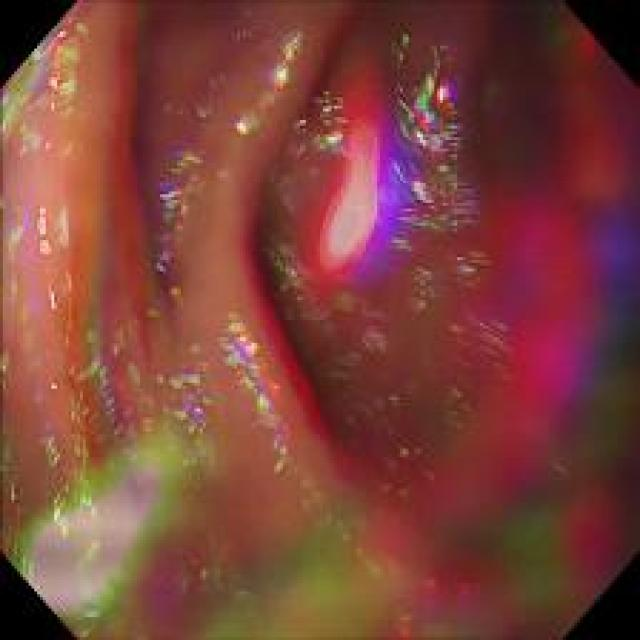color misalignment: (2, 2, 636, 636), (134, 272, 638, 636), (470, 186, 631, 635), (6, 394, 175, 636), (195, 486, 431, 635), (305, 60, 398, 301), (65, 330, 160, 499), (398, 34, 461, 272), (0, 16, 90, 160), (202, 319, 296, 452), (331, 381, 438, 492), (444, 279, 512, 436), (265, 235, 338, 372), (146, 138, 212, 285), (0, 295, 75, 414), (160, 351, 222, 494), (232, 25, 304, 142), (272, 115, 330, 255), (334, 301, 395, 392), (0, 308, 185, 334), (1, 192, 32, 309), (406, 260, 439, 314)
specularity: (32, 200, 68, 316)
